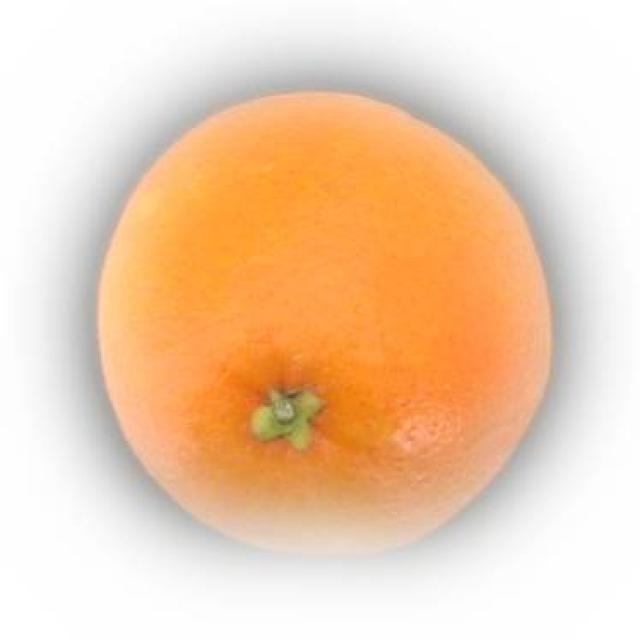orange: (100, 87, 558, 558)
